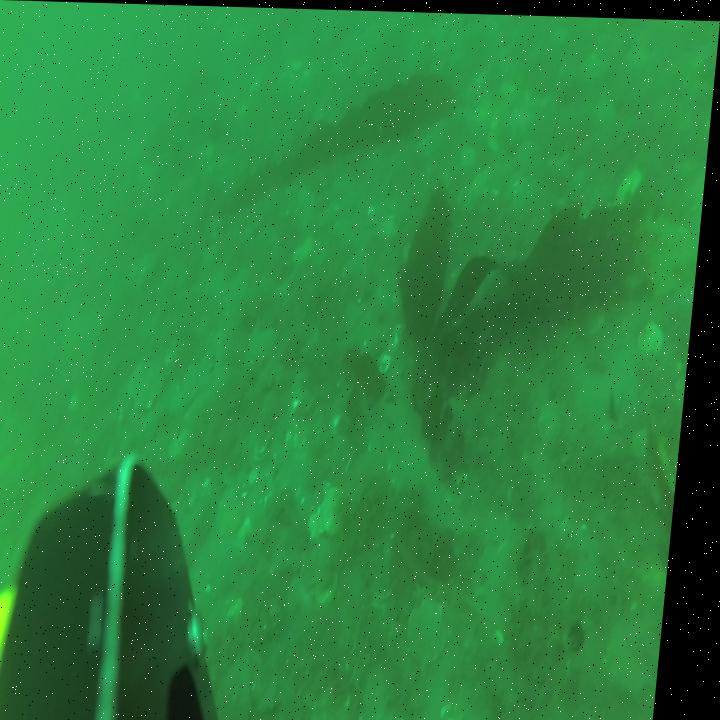scallop: (419, 590, 464, 665), (134, 362, 173, 418), (223, 490, 255, 536), (545, 393, 572, 444), (616, 166, 645, 210), (642, 319, 673, 357)
